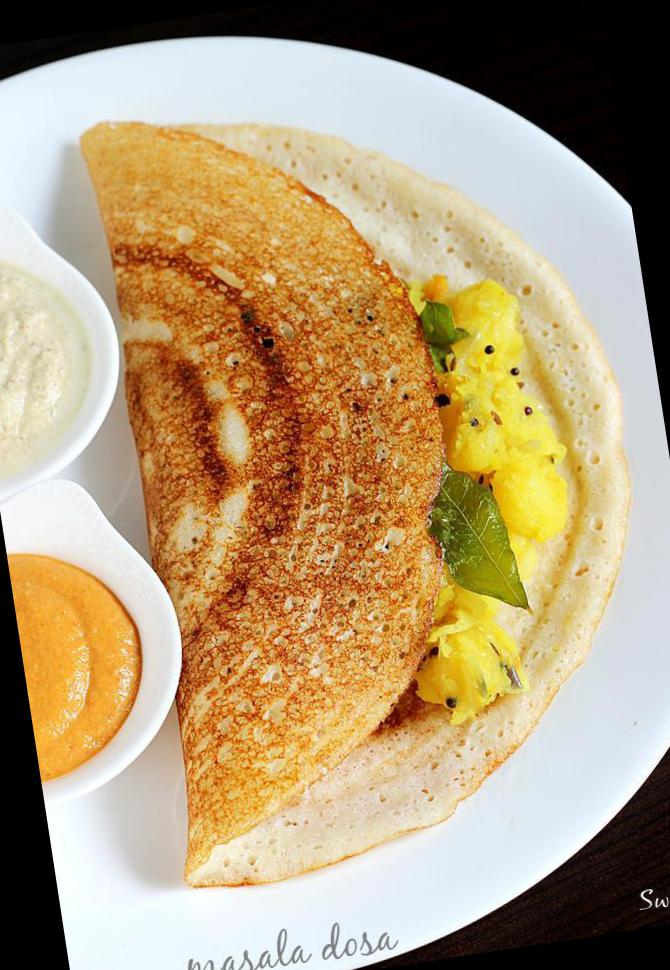dosa: (75, 119, 618, 890)
